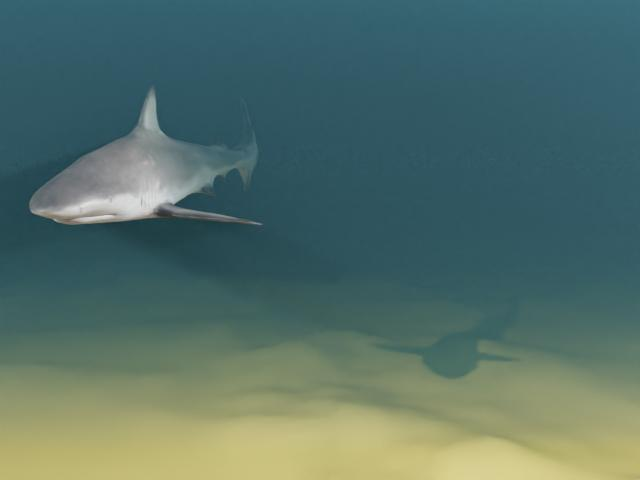Carribean Shark.001: (29, 85, 262, 225)
